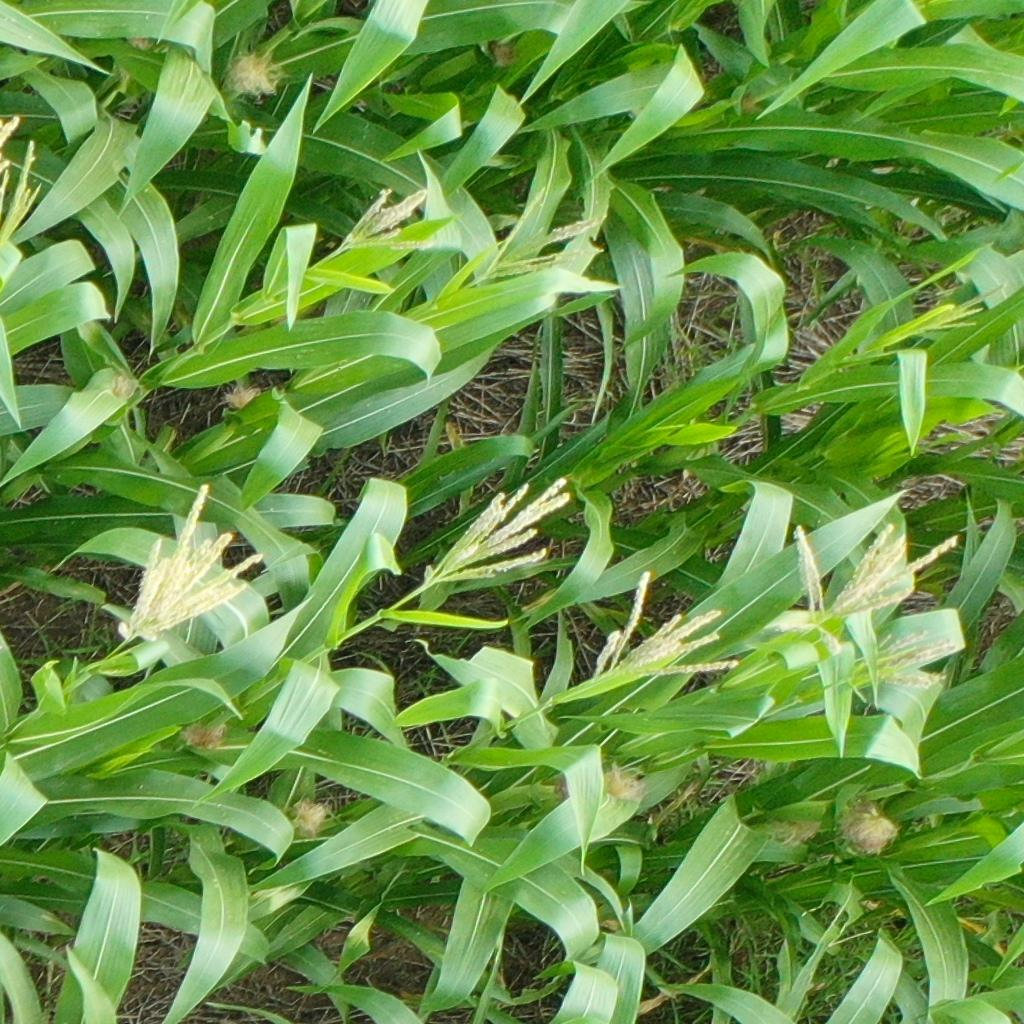Tassel: (116, 482, 269, 643), (777, 524, 959, 656), (592, 571, 741, 683), (427, 476, 572, 585), (479, 188, 609, 283), (842, 631, 956, 702), (338, 186, 438, 252), (1, 113, 42, 249), (925, 286, 1010, 332)
